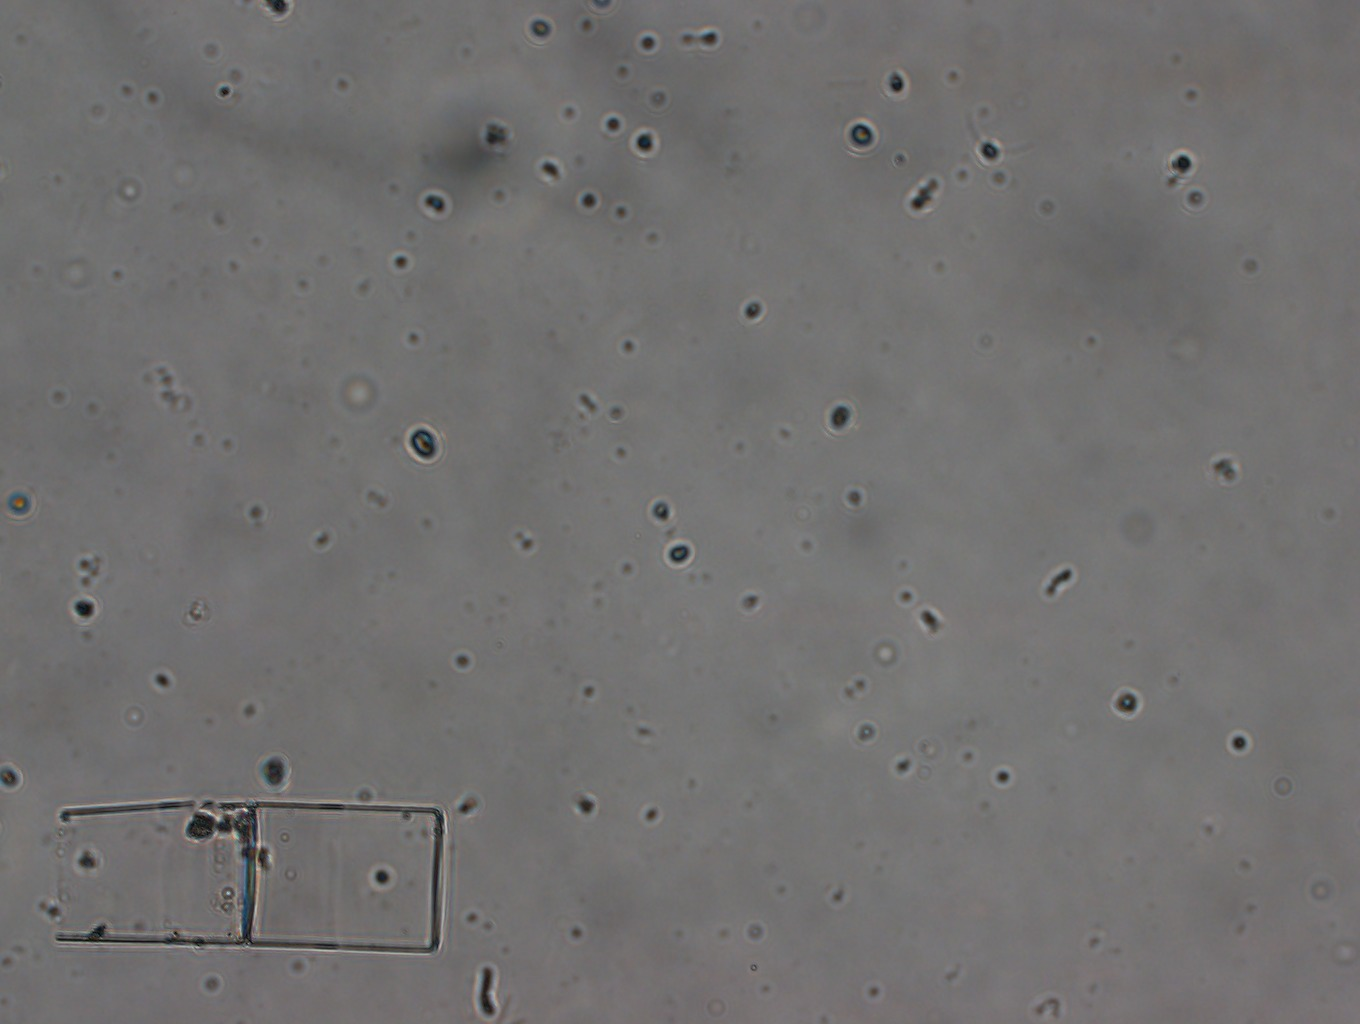guinardia flaccida: (51, 798, 447, 956)
